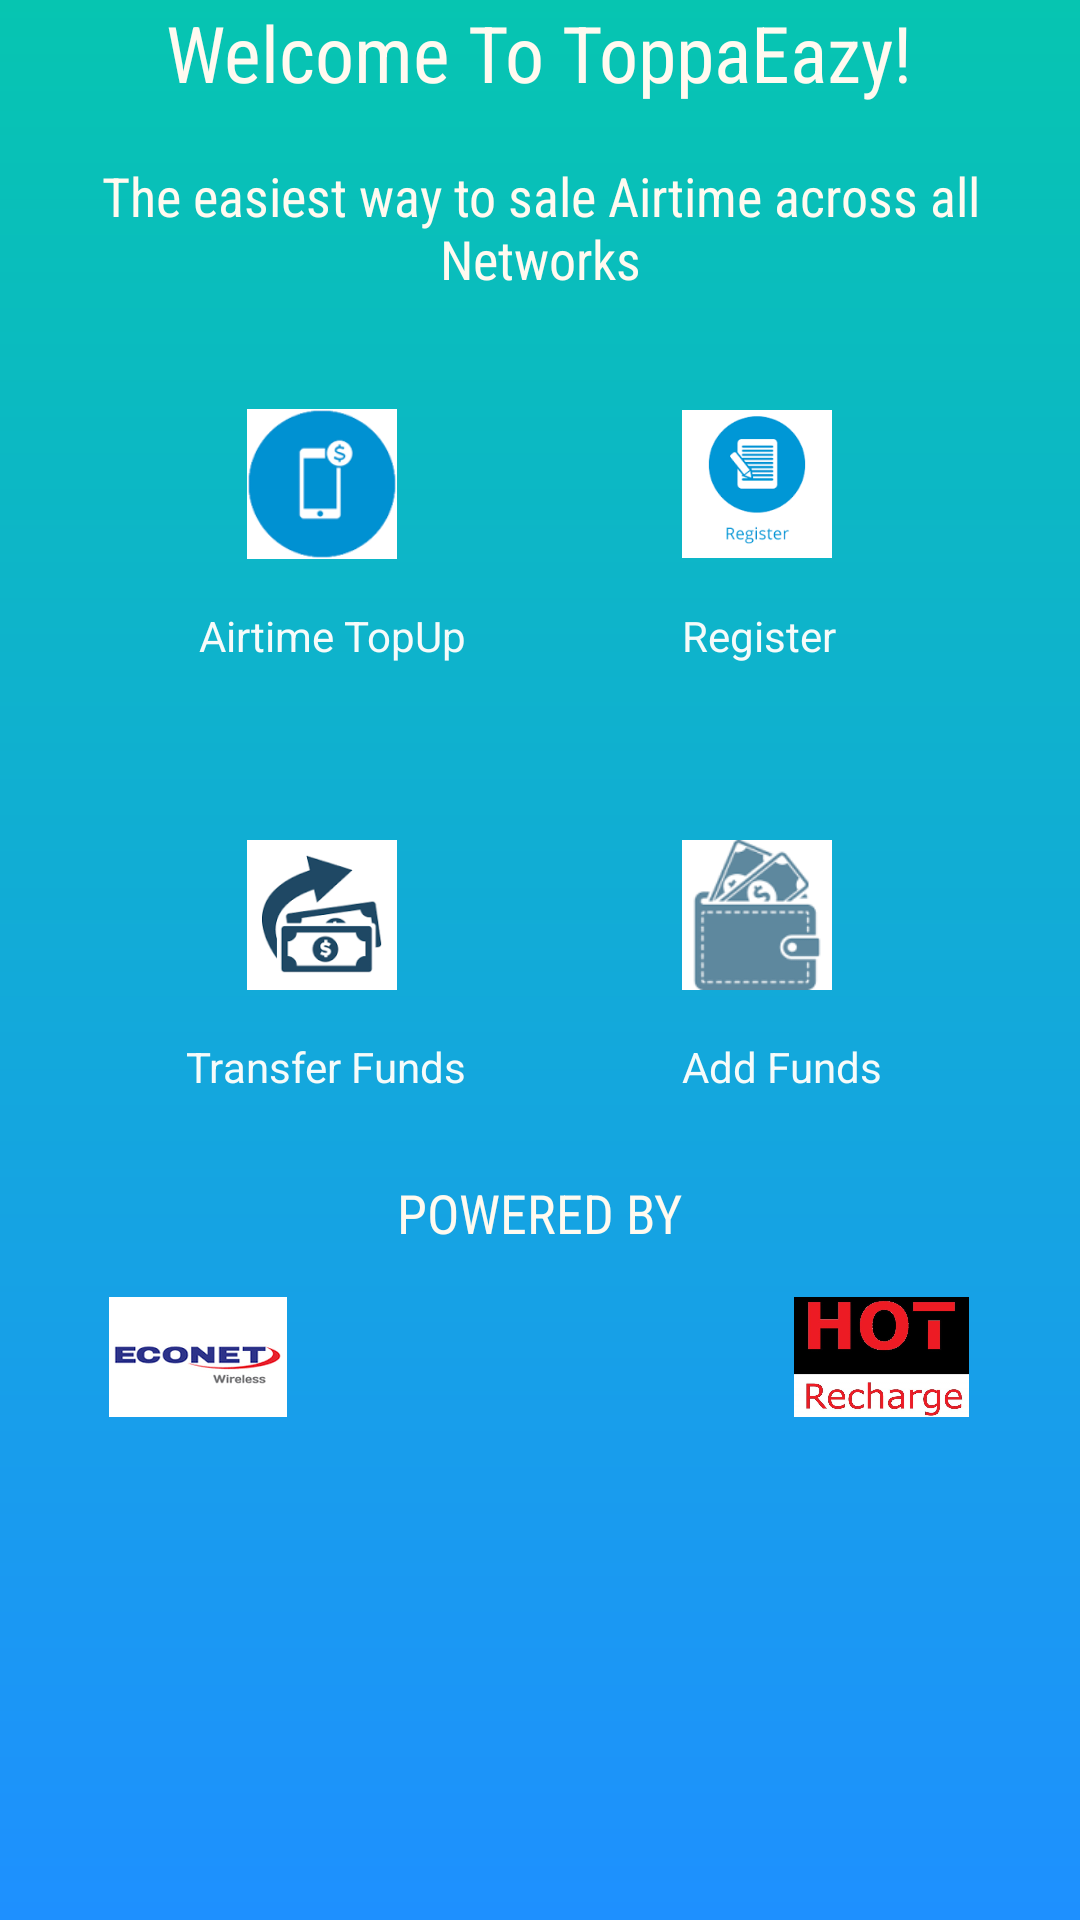

Where to tap for icons on this 1080*1920 app screen, as (x,y):
wallet: (757,915)
